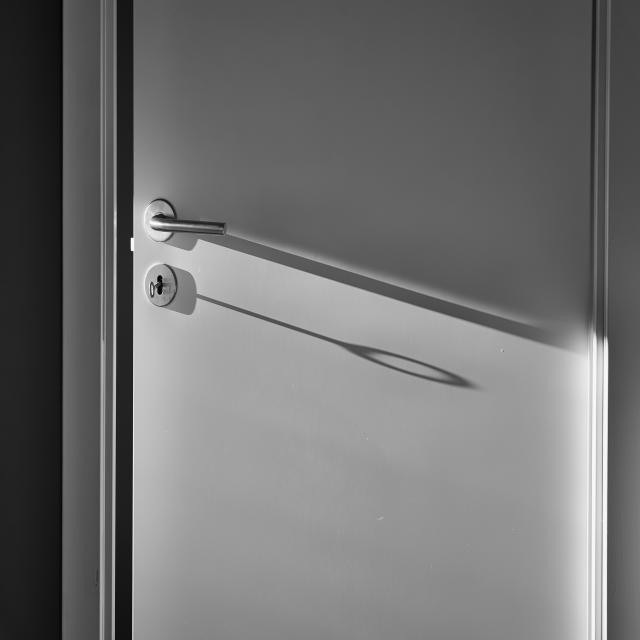door-handle: (145, 200, 226, 242)
